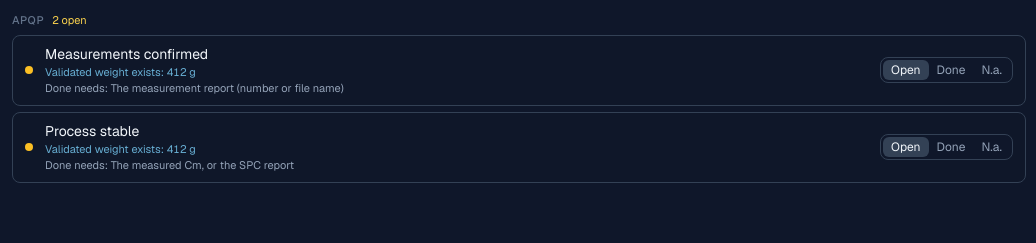
ReleaseChecklist › R38: a row that promises a report asks for it by name; the Cm row takes the value instead
This screenshot has width=1036, height=243.
Step 1. Click the radio button with test id "release-check-parts_measured-done" → (951, 70), box [929, 60, 973, 80]
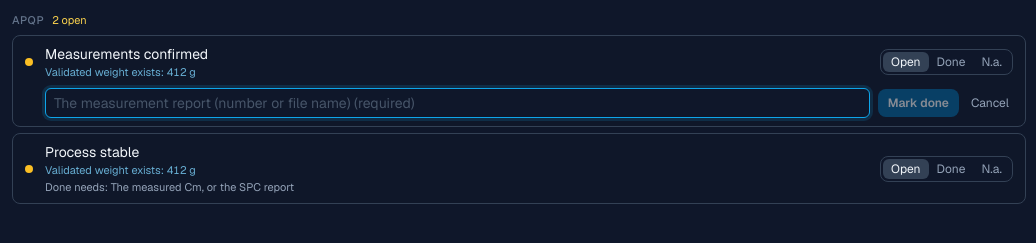
expect the button with test id "release-check-parts_measured-confirm" is disabled: met, box [878, 89, 959, 117]
Step 2. Type "MR-2026-118" into the field with test id "release-check-parts_measured-note" → (457, 103), box [45, 88, 870, 118]
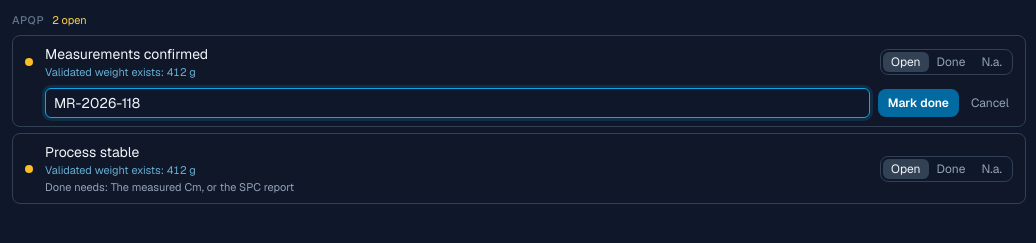
expect the button with test id "release-check-parts_measured-confirm" is enabled: met, box [878, 89, 959, 117]
Step 3. Click the radio button with test id "release-check-process_stable_apqp-done" → (951, 168), box [929, 158, 973, 178]
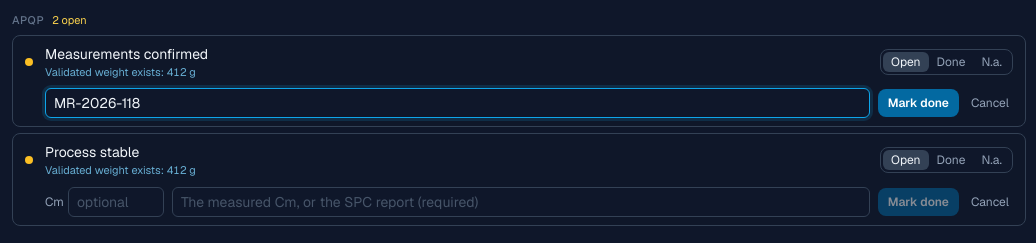
expect the button with test id "release-check-process_stable_apqp-confirm" is disabled: met, box [878, 188, 959, 216]
Step 4. Type "1.85" into the field with test id "release-check-process_stable_apqp-value" → (116, 202), box [68, 186, 164, 216]
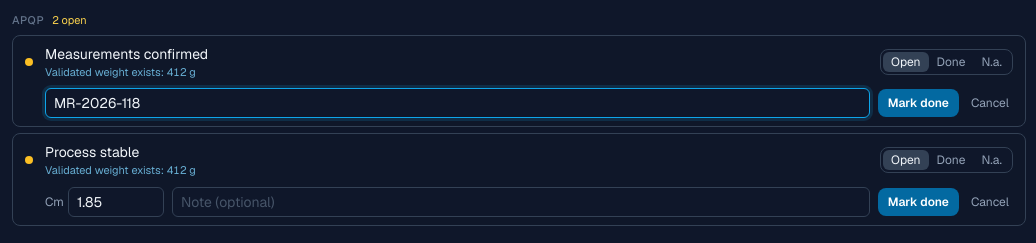
expect the button with test id "release-check-process_stable_apqp-confirm" is enabled: met, box [878, 188, 959, 216]
